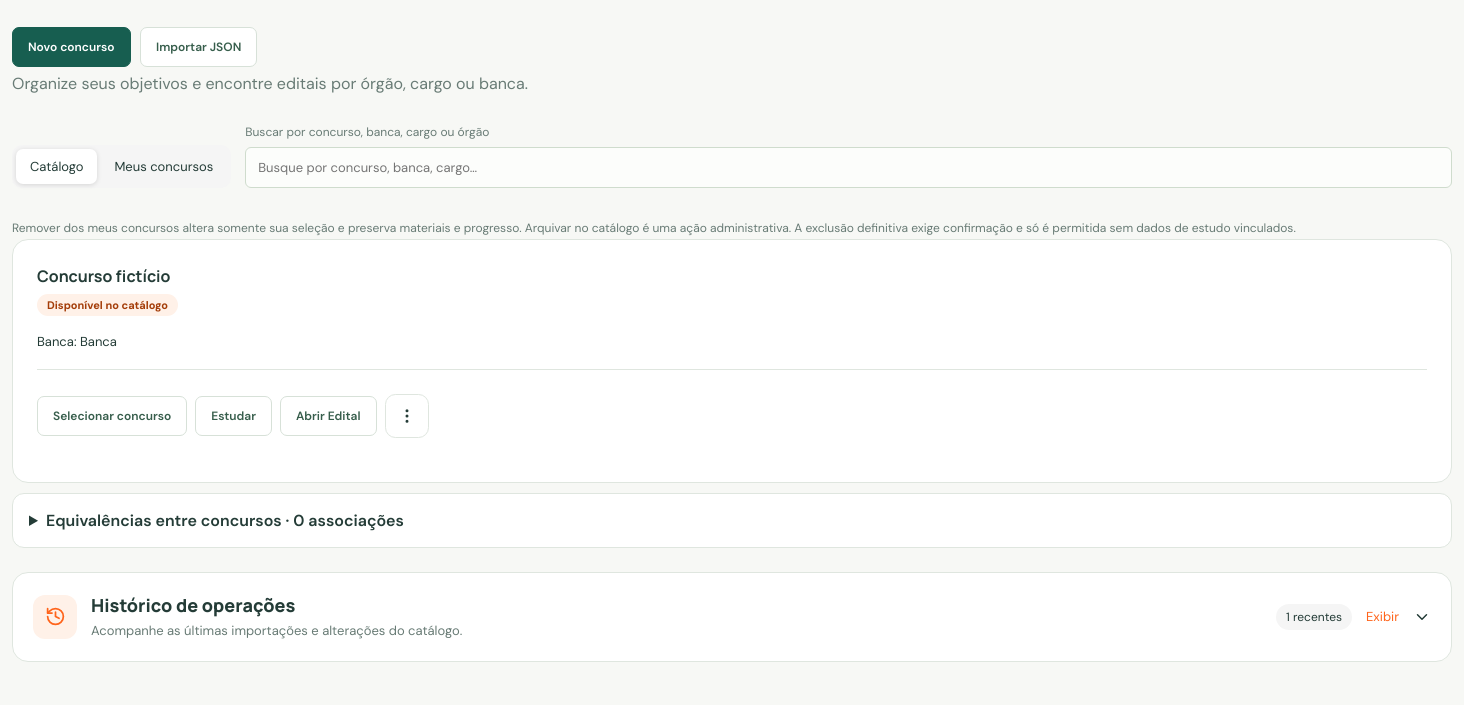
Scenario: mostra histórico em cartões recolhidos e permite exibir/esconder por teclado
Expected: the heading "Importação fictícia" is not shown
Step 1. Click the button "Histórico de operações" → (55, 617), box [13,573,1451,660]
(page scrolled)
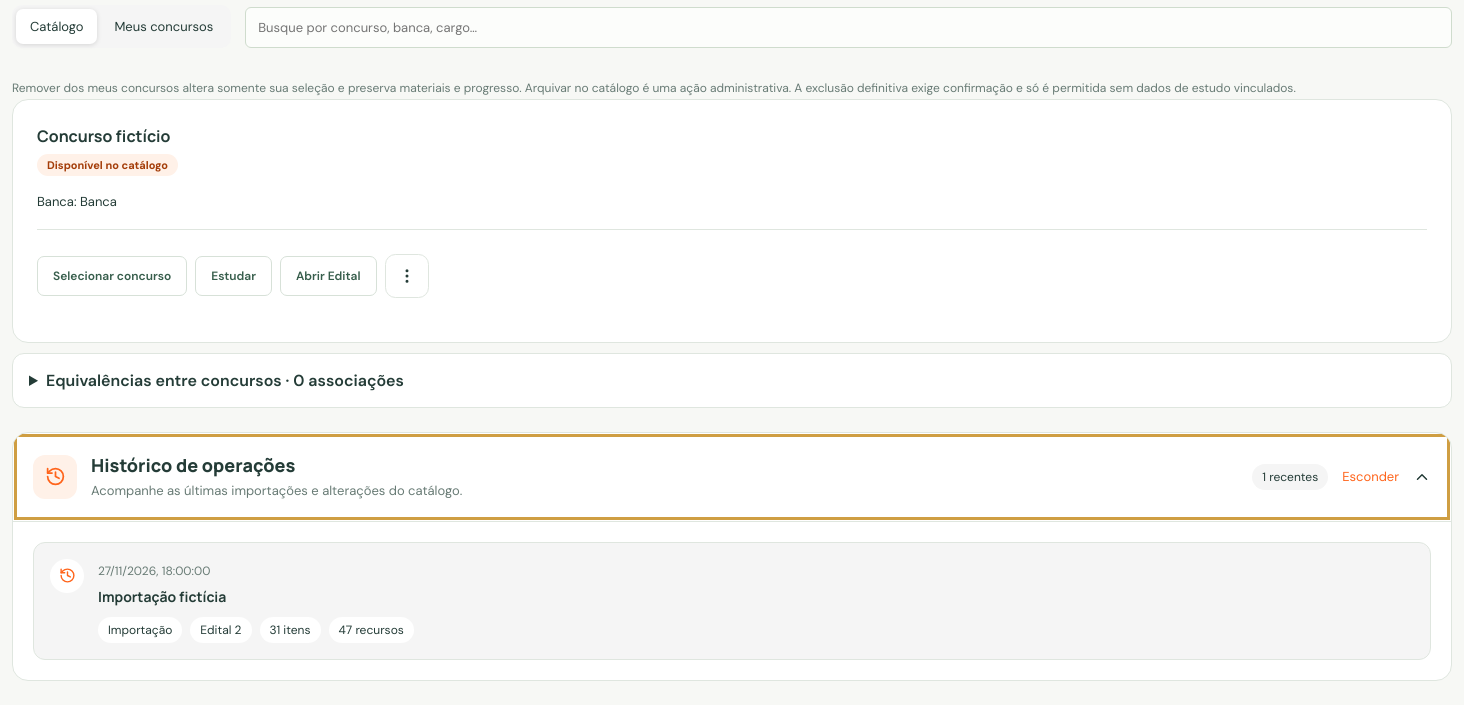
Expected: the heading "Importação fictícia" is shown, [98,586,226,606]
Expected: the text "31 itens" is shown, [260,616,320,642]
Expected: the text "47 recursos" is shown, [328,616,414,642]
Step 2. Press Enter
(page scrolled)
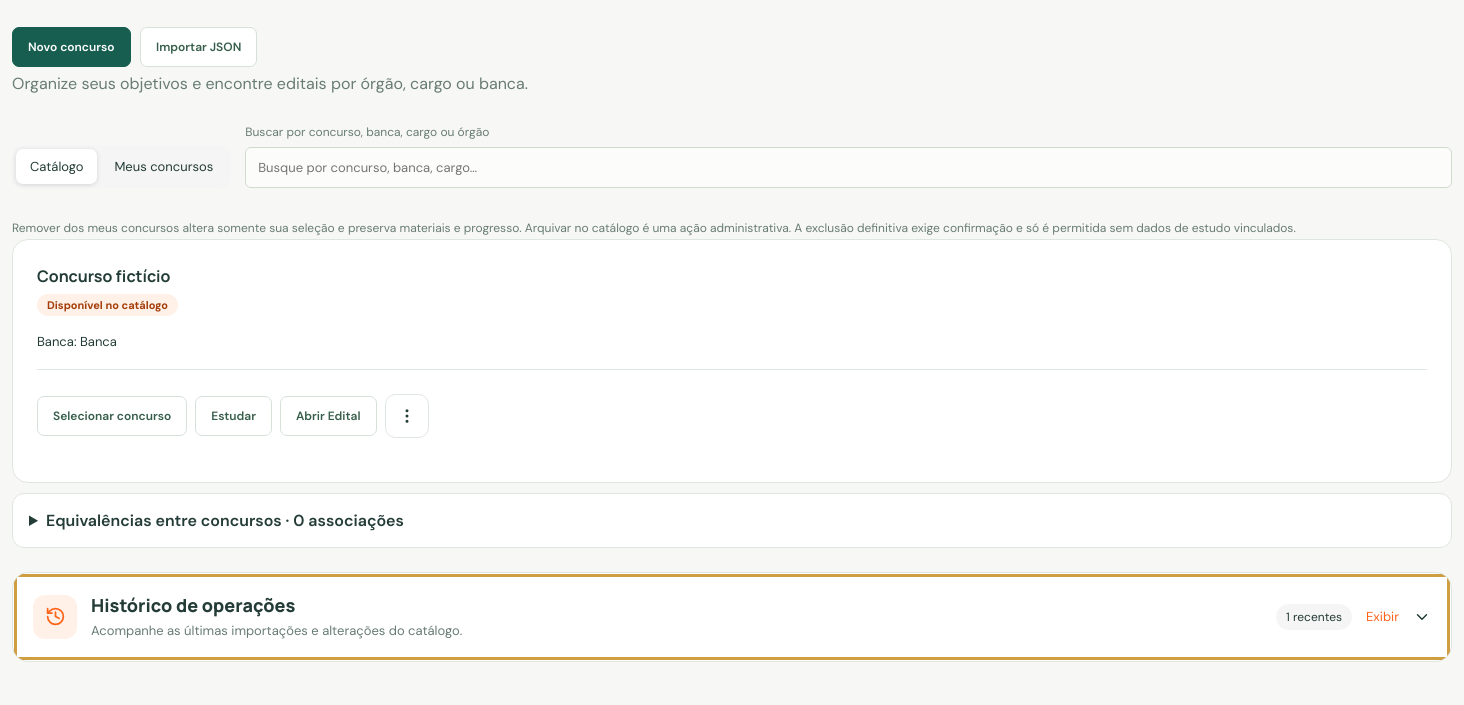
Expected: the button "Histórico de operações" is collapsed, [13,573,1451,660]
Expected: the heading "Importação fictícia" is gone
